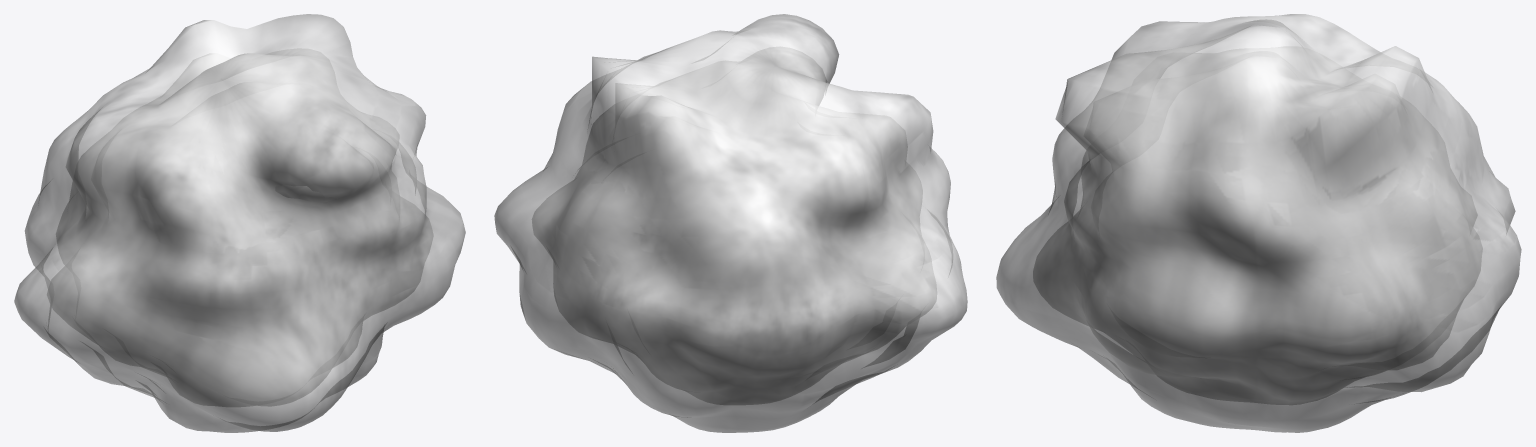
File: cloud.glb
3 views of the same model, side by side, from view 1: azimuth 30°, elevation 25°; view 2: azimuth 150°, elevation 25°; view 3: azimuth 270°, elevation 25° (orthographic). The views are drawn at different scales.
Parts seen in each view (by area): view 1: Sphere; view 2: Sphere; view 3: Sphere.
Part boxes in pixels (x1,y1,x2,y2): Sphere: (14, 14, 465, 432); Sphere: (494, 14, 967, 432); Sphere: (996, 14, 1521, 432).
Bounding box in the file's own units: 1.9 × 1.45 × 1.81.
Materials: 1 (1 with a texture image).
